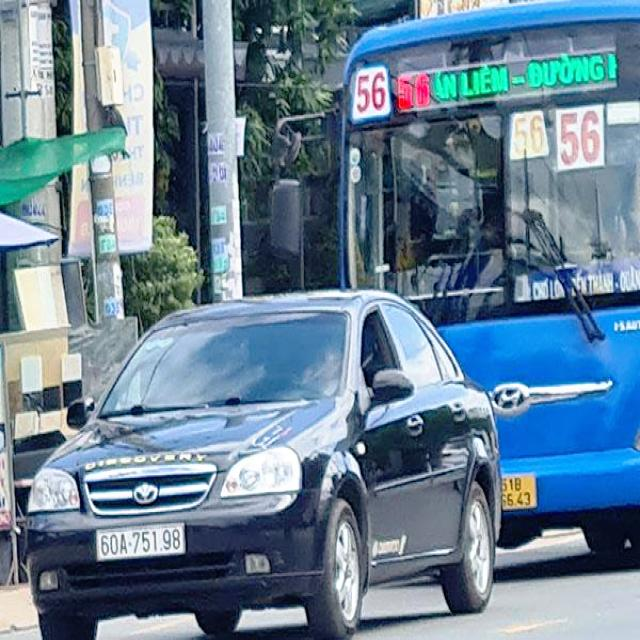license_plate: (100, 526, 186, 561)
